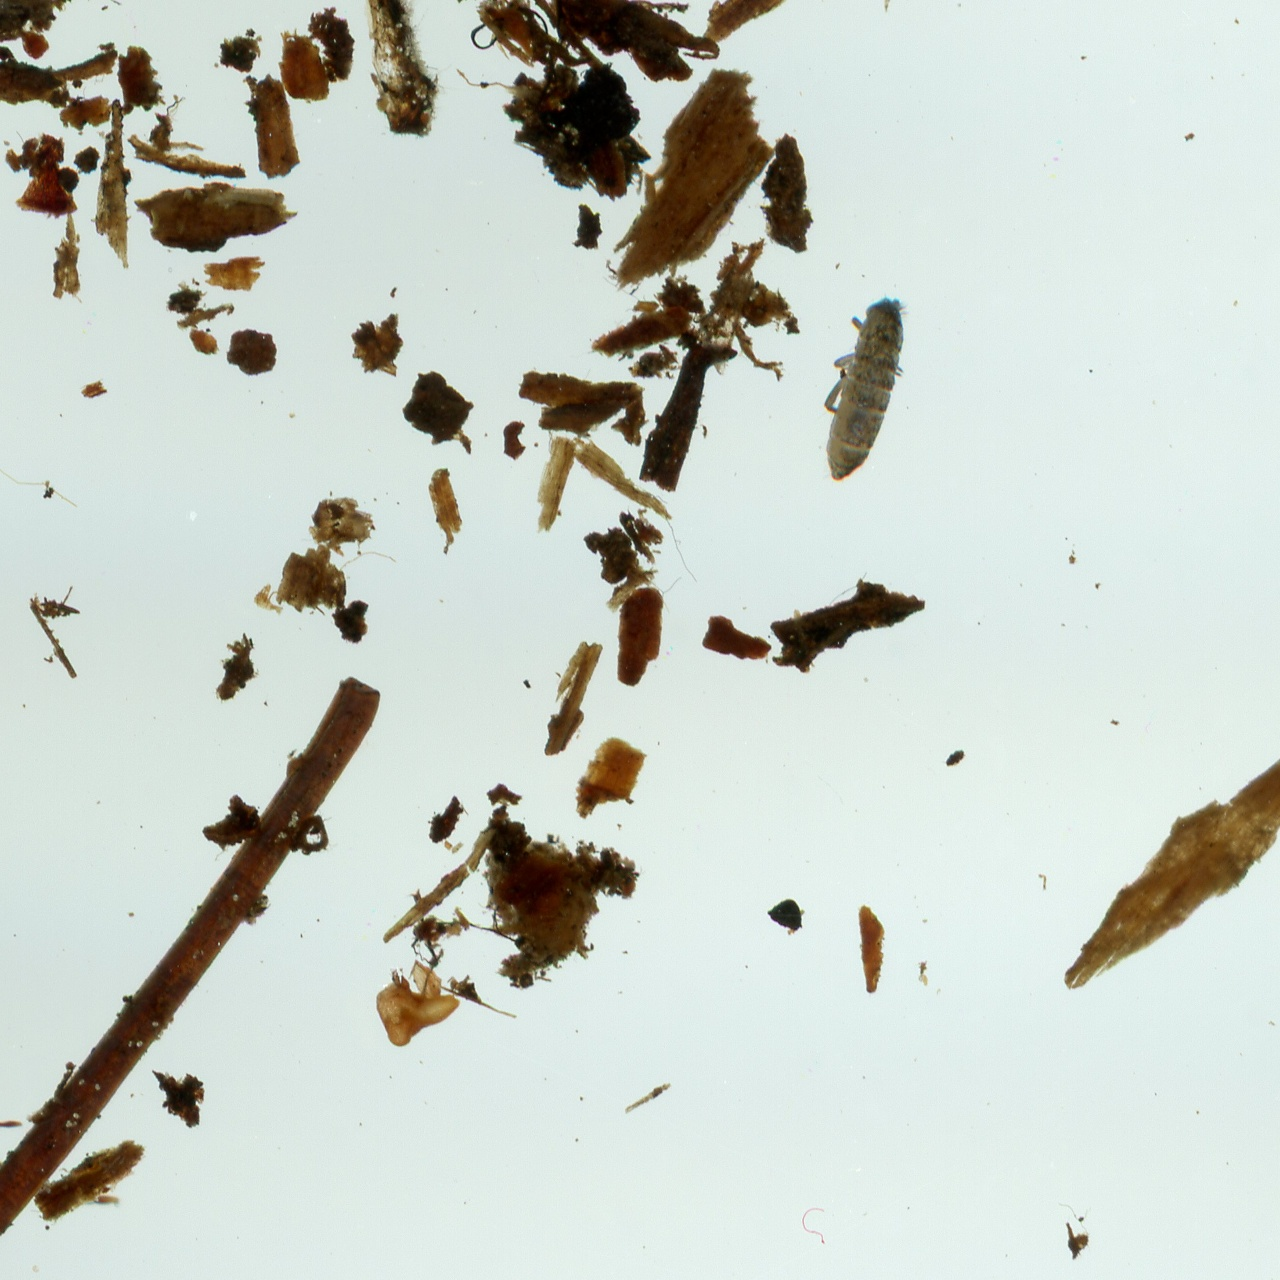arthropod: (802, 278, 923, 498)
